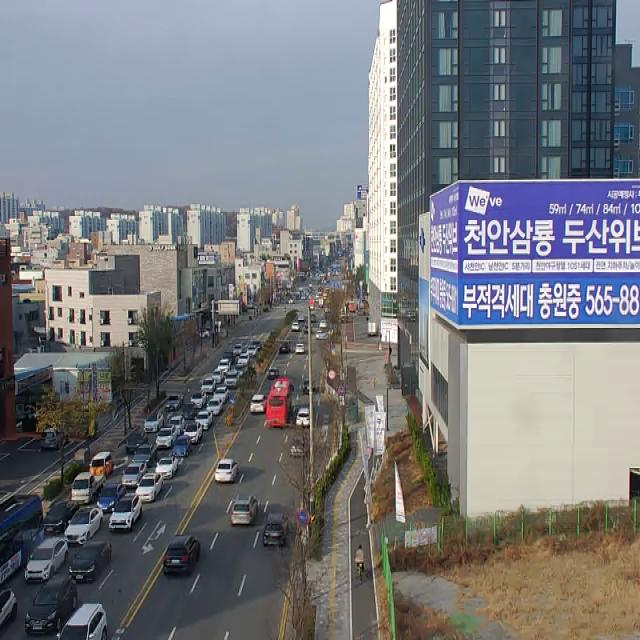Bus: (0, 494, 44, 586), (266, 379, 294, 427)
Car: (26, 579, 78, 634), (25, 538, 68, 582), (68, 542, 112, 583), (57, 604, 107, 640), (64, 508, 103, 546), (163, 536, 200, 576), (109, 493, 142, 532), (44, 501, 78, 535), (96, 483, 126, 513), (263, 513, 288, 547), (136, 474, 163, 501), (231, 496, 257, 524), (0, 588, 17, 629), (40, 427, 66, 451), (122, 463, 147, 487), (132, 444, 157, 466), (155, 456, 178, 479), (216, 459, 238, 483), (89, 452, 112, 474), (126, 434, 148, 454), (144, 413, 164, 433), (156, 428, 175, 449), (172, 435, 190, 457), (183, 423, 202, 443), (195, 411, 212, 430), (250, 394, 266, 414), (181, 401, 197, 419), (290, 438, 305, 457), (170, 416, 184, 435), (213, 387, 229, 403), (190, 392, 206, 408), (207, 398, 222, 415), (225, 370, 239, 388), (296, 408, 310, 426), (165, 396, 181, 411), (303, 379, 315, 396), (202, 379, 215, 393), (212, 369, 224, 384), (218, 359, 230, 372), (268, 367, 280, 379), (238, 352, 249, 365), (247, 345, 258, 357), (223, 352, 235, 363), (279, 341, 289, 354), (233, 344, 244, 355), (236, 364, 244, 378), (253, 341, 262, 351), (296, 344, 304, 355), (305, 322, 312, 334), (319, 320, 328, 328), (316, 330, 323, 340), (200, 331, 209, 338), (292, 323, 299, 332)
Truck: (72, 473, 104, 504), (368, 321, 376, 336)
